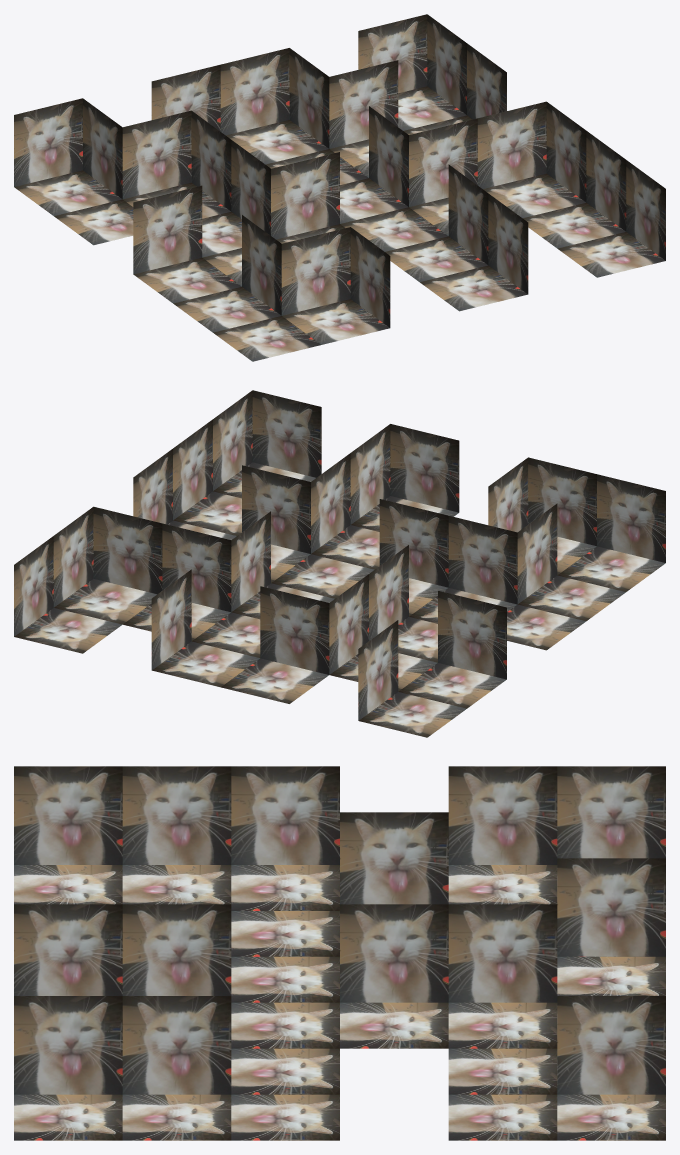
File: maze.gltf
3 views of the same model, one above another, from view 1: azimuth 30°, elevation 25°; view 2: azimuth 150°, elevation 25°; view 3: azimuth 270°, elevation 25° (orthographic). The views are drawn at different scales.
Visible parts, largest first — view 1: Plane.074, Plane.035, Plane.076, Plane.042, Plane.031, Plane.041, Plane.010, Plane.071, Plane.030, Plane.044, Plane.012, Plane.065 (+34 smaller); view 2: Plane.019, Plane.045, Plane.055, Plane.053, Plane.069, Plane.056, Plane.036, Plane.052, Plane.026, Plane.057, Plane.068, Plane.073 (+36 smaller); view 3: Plane.046, Plane.051, Plane.064, Plane.078, Plane.047, Plane.049, Plane.067, Plane.072, Plane.048, Plane.018, Plane.034, Plane.077 (+19 smaller).
Boxes of the visible parts, x1,y1,x2,y2 form: Plane.074: [281, 227, 350, 315]; Plane.035: [133, 185, 202, 274]; Plane.076: [122, 110, 191, 199]; Plane.042: [220, 48, 289, 135]; Plane.031: [477, 101, 546, 188]; Plane.041: [14, 98, 82, 186]; Plane.010: [271, 152, 339, 239]; Plane.071: [329, 60, 398, 148]; Plane.030: [409, 118, 477, 206]; Plane.044: [358, 14, 427, 93]; Plane.012: [151, 64, 220, 131]; Plane.065: [488, 193, 528, 294]; Plane.019: [260, 586, 329, 674]; Plane.045: [448, 516, 517, 604]; Plane.055: [390, 424, 459, 512]; Plane.053: [252, 390, 321, 477]; Plane.069: [93, 507, 162, 594]; Plane.056: [597, 474, 665, 562]; Plane.036: [438, 590, 506, 679]; Plane.052: [162, 523, 231, 611]; Plane.026: [379, 499, 448, 587]; Plane.057: [528, 457, 596, 546]; Plane.068: [242, 465, 310, 553]; Plane.073: [151, 569, 191, 670]; Plane.046: [122, 766, 231, 864]; Plane.051: [448, 766, 557, 864]; Plane.064: [122, 996, 231, 1094]; Plane.078: [448, 904, 557, 1002]; Plane.047: [14, 766, 122, 864]; Plane.049: [231, 766, 339, 864]; Plane.067: [14, 996, 122, 1094]; Plane.072: [557, 996, 665, 1094]; Plane.048: [340, 904, 448, 1002]; Plane.018: [557, 858, 665, 956]; Plane.034: [340, 812, 448, 904]; Plane.077: [557, 766, 665, 858].
Size of the model in its own units: 12 by 2 by 12.
1 material, 1 textured.
